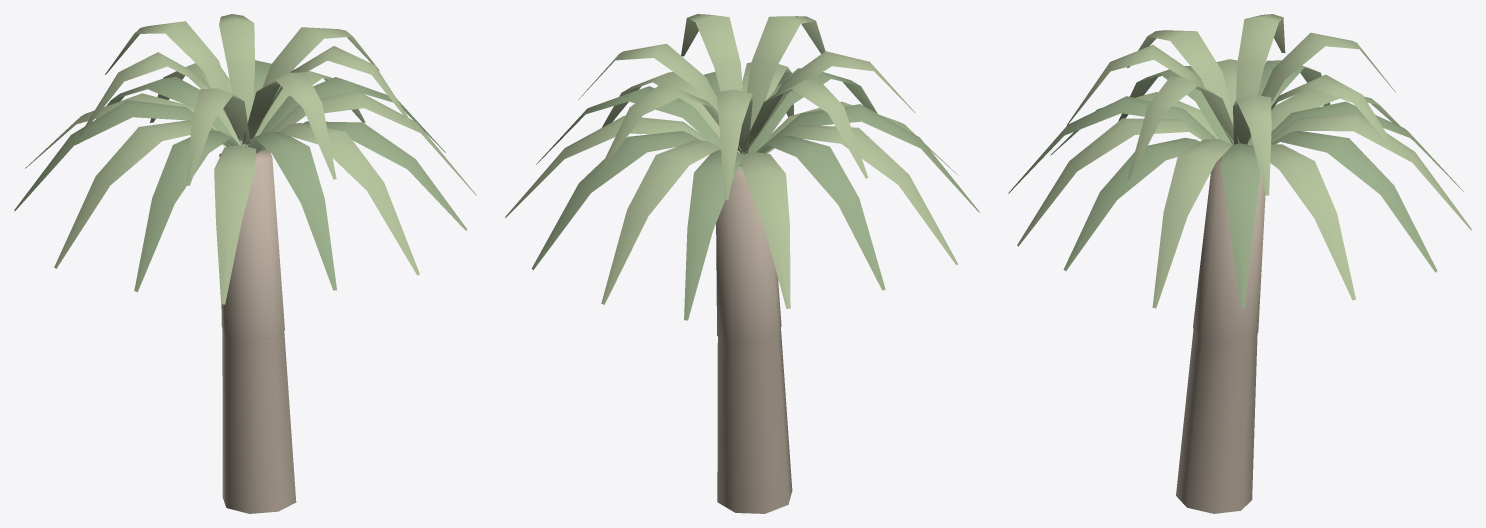
The model's file is small_palm_8.glb.
3 renders of one model, left to right at view 1: azimuth 30°, elevation 25°; view 2: azimuth 150°, elevation 25°; view 3: azimuth 270°, elevation 25°, orthographic.
Visible parts, largest first — view 1: small_palm_8.glb; view 2: small_palm_8.glb; view 3: small_palm_8.glb.
Boxes of the visible parts, <box> form: small_palm_8.glb: <box>14,14,476,513</box>; small_palm_8.glb: <box>505,14,979,513</box>; small_palm_8.glb: <box>1008,14,1471,513</box>.
Size of the model in its own units: 2.81 by 3 by 2.79.
